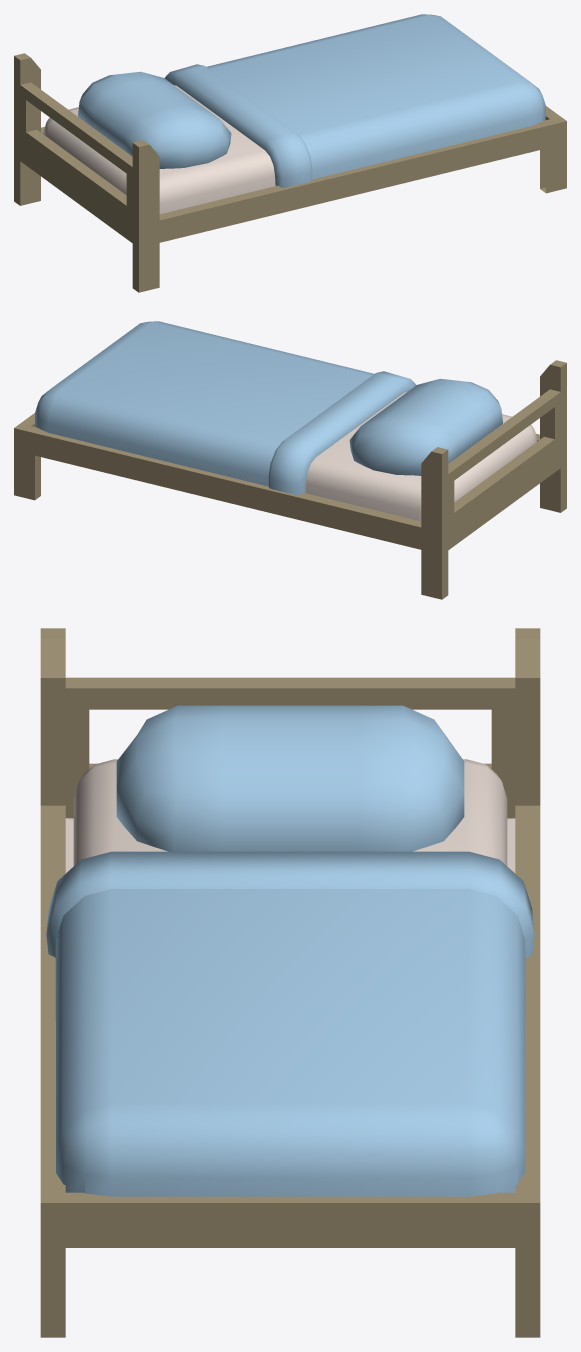
Rendered from Bed1.glb.
3 views of the same model, one above another, from view 1: azimuth 30°, elevation 25°; view 2: azimuth 150°, elevation 25°; view 3: azimuth 270°, elevation 25° (orthographic). The views are drawn at different scales.
Parts seen in each view (by area): view 1: Cube.002; view 2: Cube.002; view 3: Cube.002.
Part boxes in pixels (bbox=[...]): Cube.002: bbox=[14, 14, 566, 292]; Cube.002: bbox=[14, 321, 566, 599]; Cube.002: bbox=[40, 628, 540, 1337].
Size of the model in its own units: 2 by 0.65 by 1.01.
